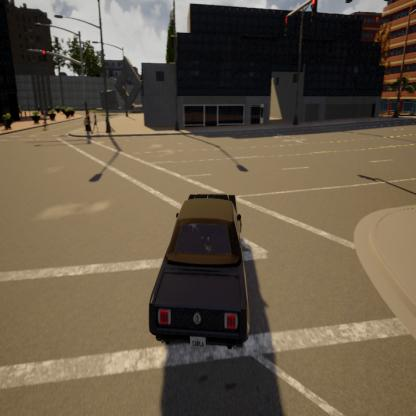Cars: (143, 174, 263, 359)
Pedestrian: (92, 106, 102, 136), (82, 108, 92, 134), (41, 107, 49, 131)
